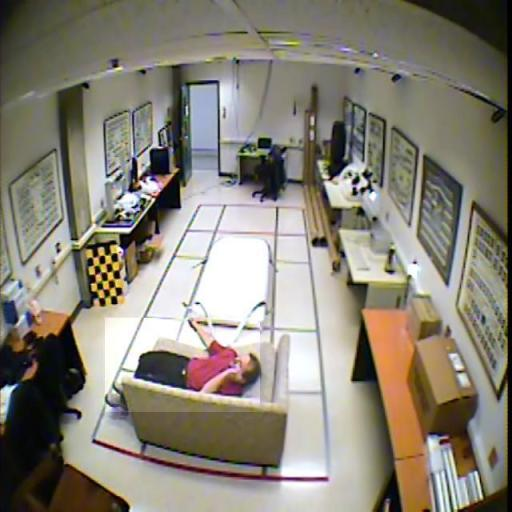Fall: (105, 319, 260, 415)
